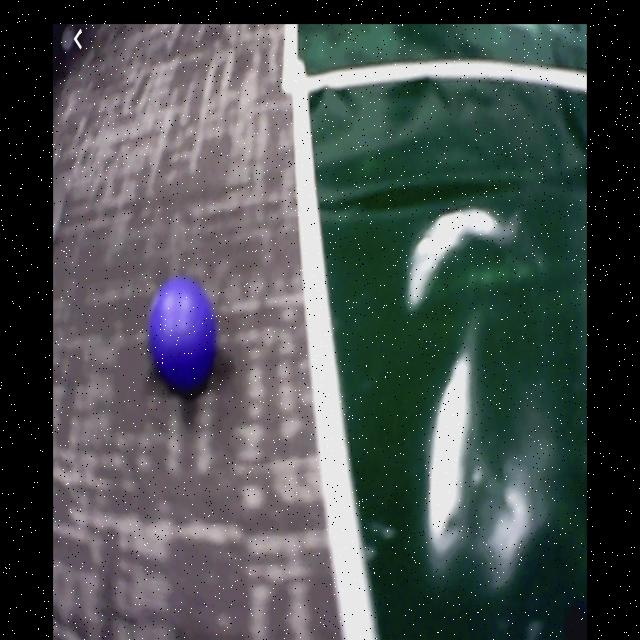ball: (148, 279, 219, 393)
